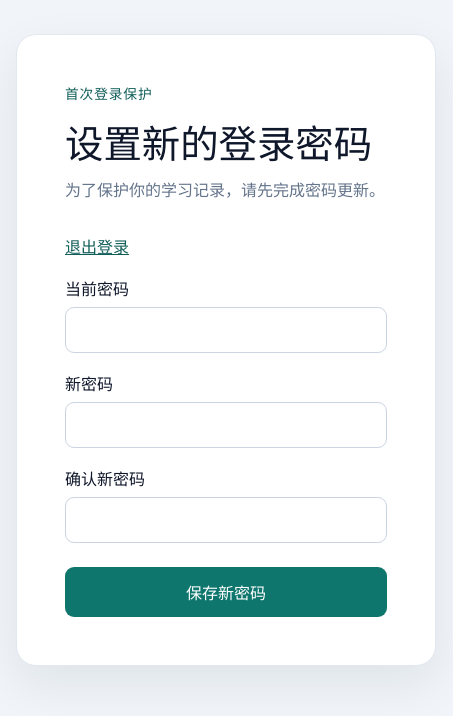
Test: ChangePasswordView › keeps logout safe after an API failure without exposing password values
This screenshot has width=453, height=716.
Type "private-current" into the password field named "当前密码". click: (226, 330)
box: [65, 307, 387, 353]
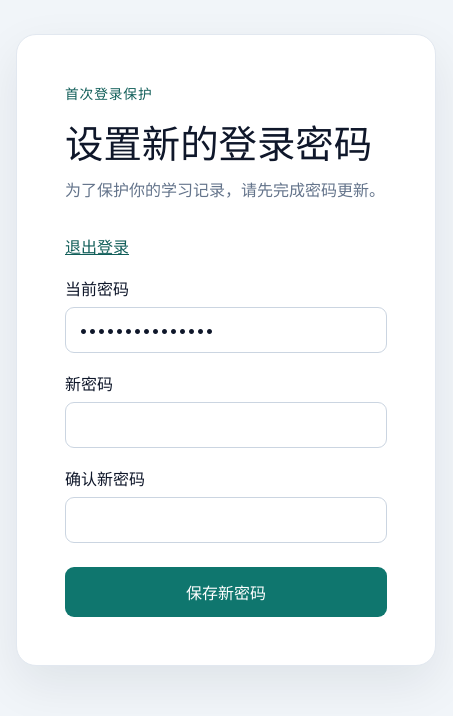
Type "private-new" into the password field named "新密码". click: (226, 425)
box: [65, 402, 387, 448]
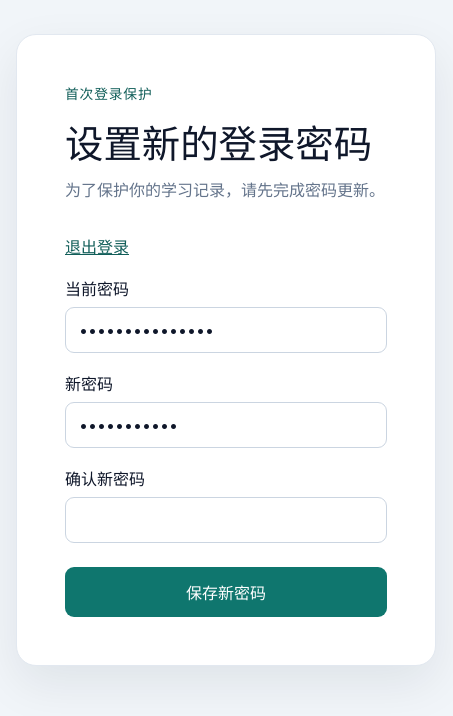
Click the button "退出登录". click: click(97, 246)
box: [65, 234, 129, 258]
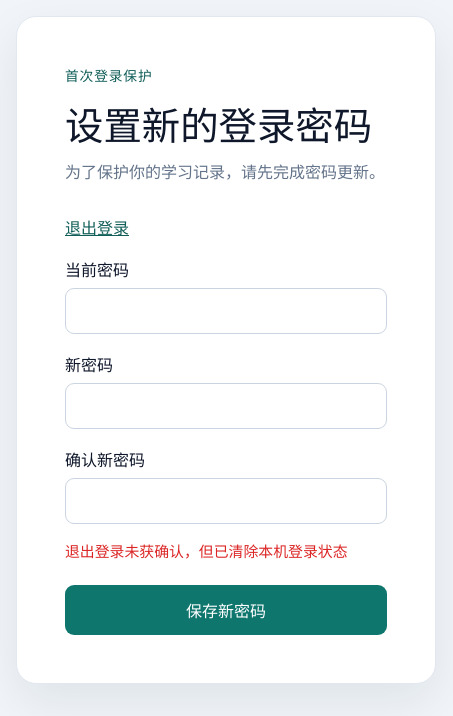
Result: the text "已清除本机登录状态" is shown at [65, 543, 348, 561]
